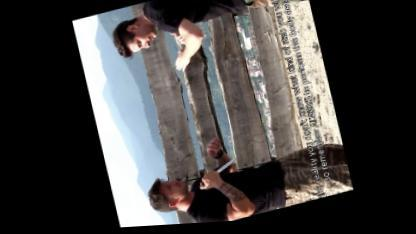knife: (192, 157, 242, 192)
